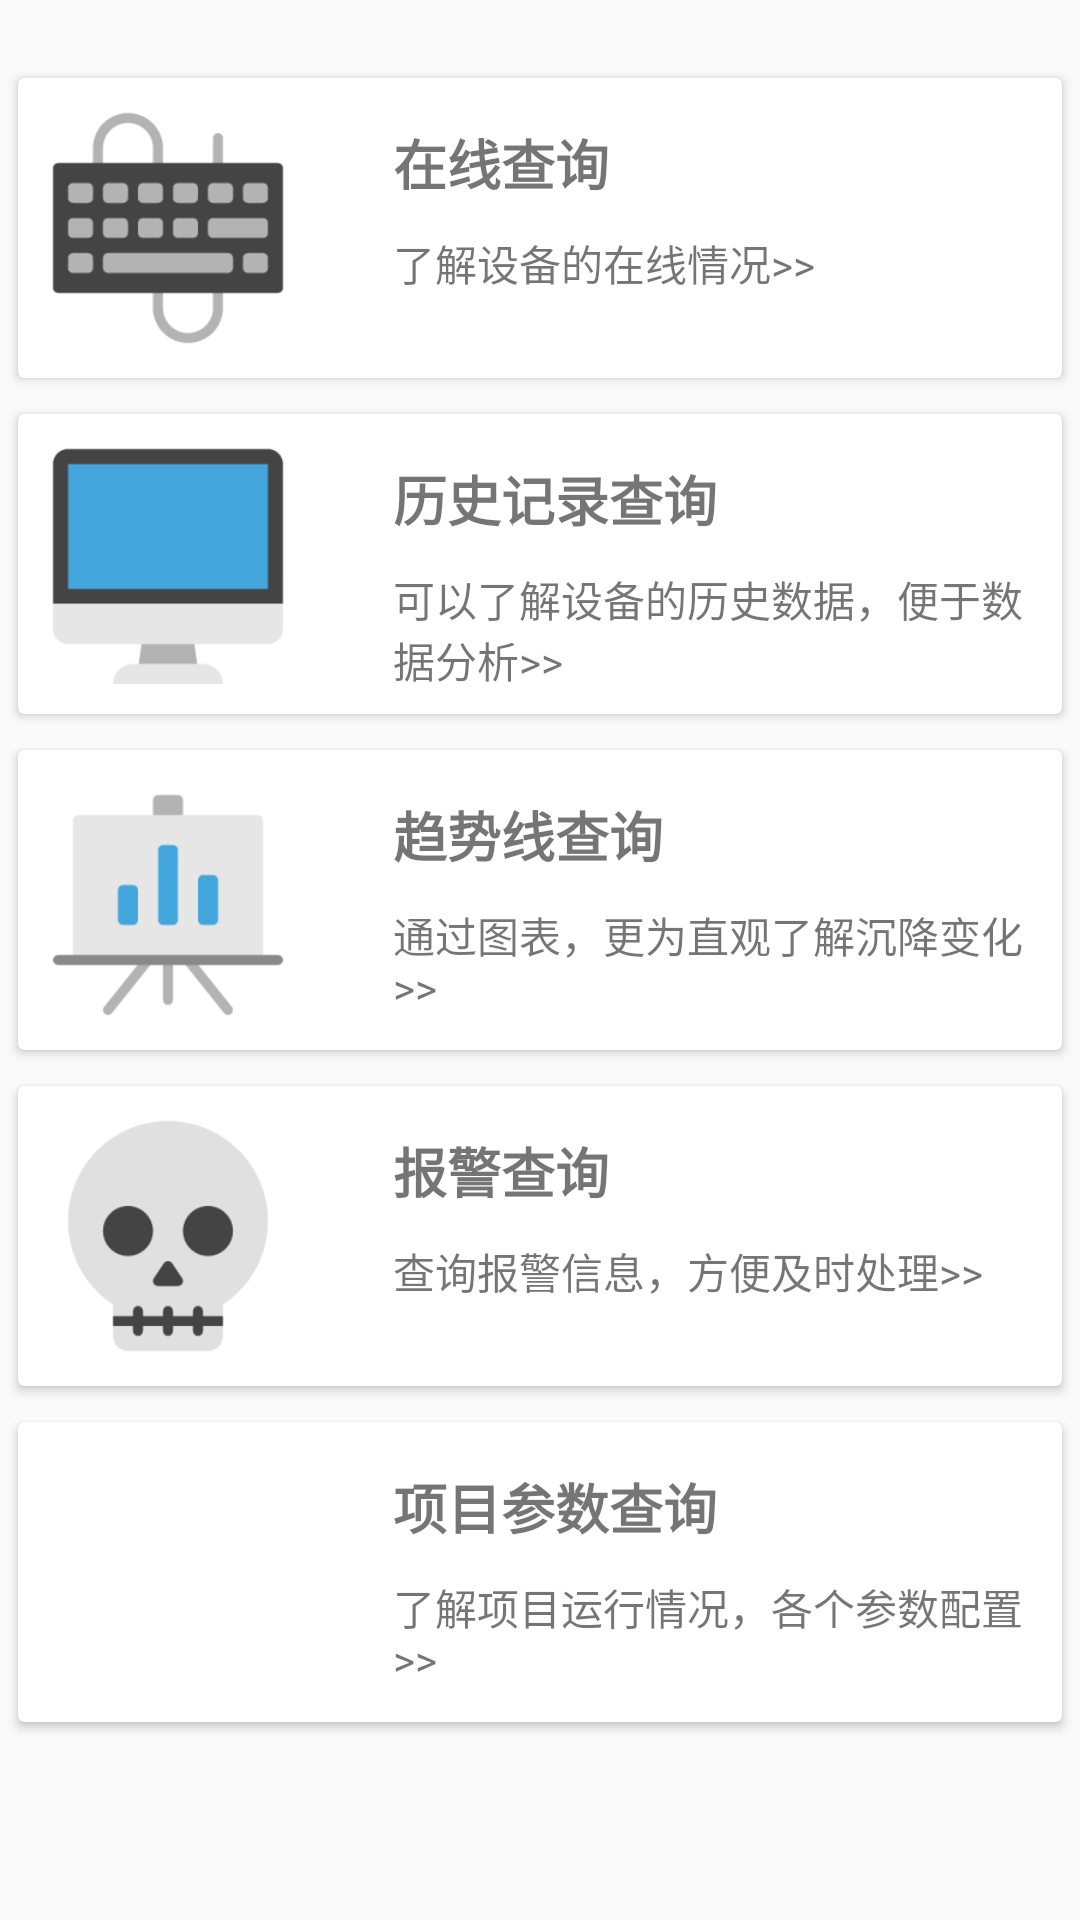

Where icons sit on this 1080 x 1920 app screen, as (left=x1, top=y1, right=x2, bottom=y2):
board: (left=53, top=795, right=283, bottom=1015)
desktop: (left=52, top=448, right=284, bottom=684)
keyboard: (left=52, top=113, right=284, bottom=343)
skull: (left=69, top=1122, right=267, bottom=1351)
